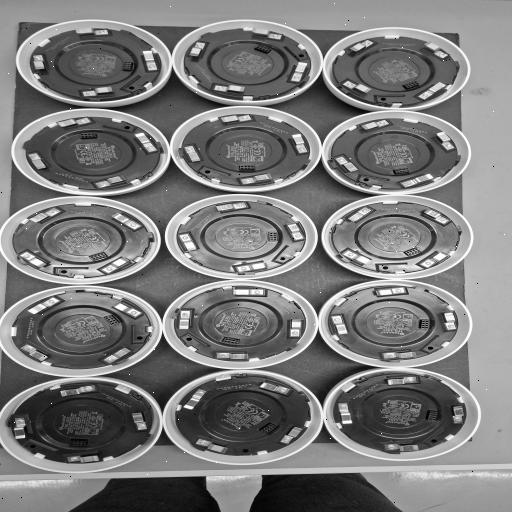konnektor: (400, 245, 421, 259), (251, 44, 276, 55), (86, 251, 108, 263), (258, 422, 278, 434), (424, 409, 442, 422), (102, 314, 120, 326), (222, 336, 243, 346), (67, 438, 93, 446), (418, 316, 431, 332), (263, 231, 279, 244), (388, 166, 412, 174), (235, 164, 258, 172), (401, 80, 420, 89), (120, 61, 135, 72), (77, 133, 97, 140)
yaysiz: (107, 211, 145, 231), (178, 388, 209, 412), (207, 200, 252, 216), (341, 248, 377, 268), (55, 383, 99, 399), (24, 297, 60, 316), (28, 206, 62, 226), (243, 26, 285, 42), (108, 299, 143, 318), (194, 438, 233, 455), (128, 132, 159, 153), (102, 345, 136, 364), (418, 207, 453, 225), (19, 344, 53, 362), (254, 380, 291, 396), (52, 116, 94, 130), (336, 400, 357, 428), (419, 81, 448, 101), (401, 172, 437, 188), (126, 408, 150, 432), (420, 41, 450, 60), (234, 260, 272, 275), (421, 249, 451, 268), (80, 84, 120, 98), (24, 152, 52, 172), (283, 219, 307, 242), (20, 251, 49, 270), (12, 417, 34, 442), (341, 80, 375, 96), (95, 173, 129, 189), (182, 143, 206, 165), (176, 232, 200, 254), (226, 286, 270, 298), (330, 313, 352, 337), (102, 256, 131, 274), (345, 206, 374, 224), (366, 286, 406, 299), (278, 425, 304, 445), (433, 130, 456, 152), (288, 132, 309, 156), (335, 154, 360, 174), (213, 83, 251, 96), (382, 441, 423, 453), (288, 60, 310, 82), (138, 49, 158, 73), (346, 38, 376, 54), (174, 308, 194, 332), (214, 350, 254, 362), (70, 26, 109, 38), (379, 375, 418, 387), (66, 452, 103, 464), (448, 401, 466, 425), (358, 119, 390, 132), (240, 173, 274, 185), (286, 315, 303, 339), (381, 348, 418, 359), (186, 42, 208, 60), (216, 114, 254, 124), (32, 54, 50, 75), (439, 310, 457, 331)
